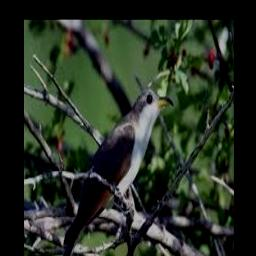Cuckoo: (43, 88, 174, 256)
